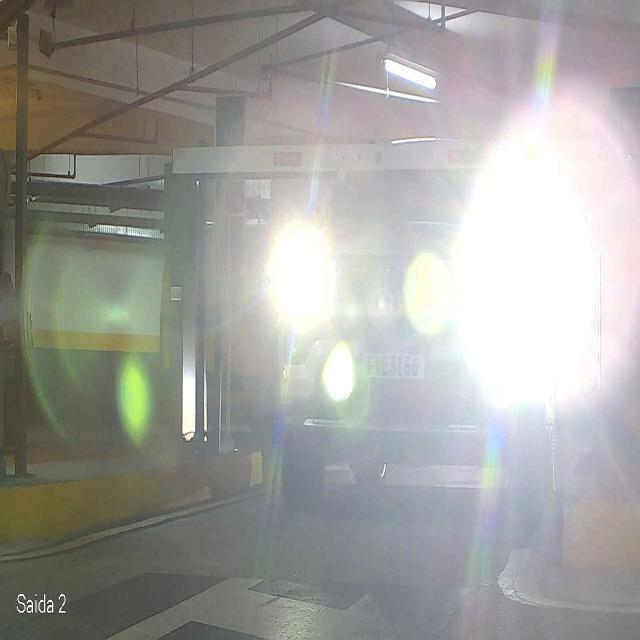mercosul_plate: (358, 346, 426, 382)
